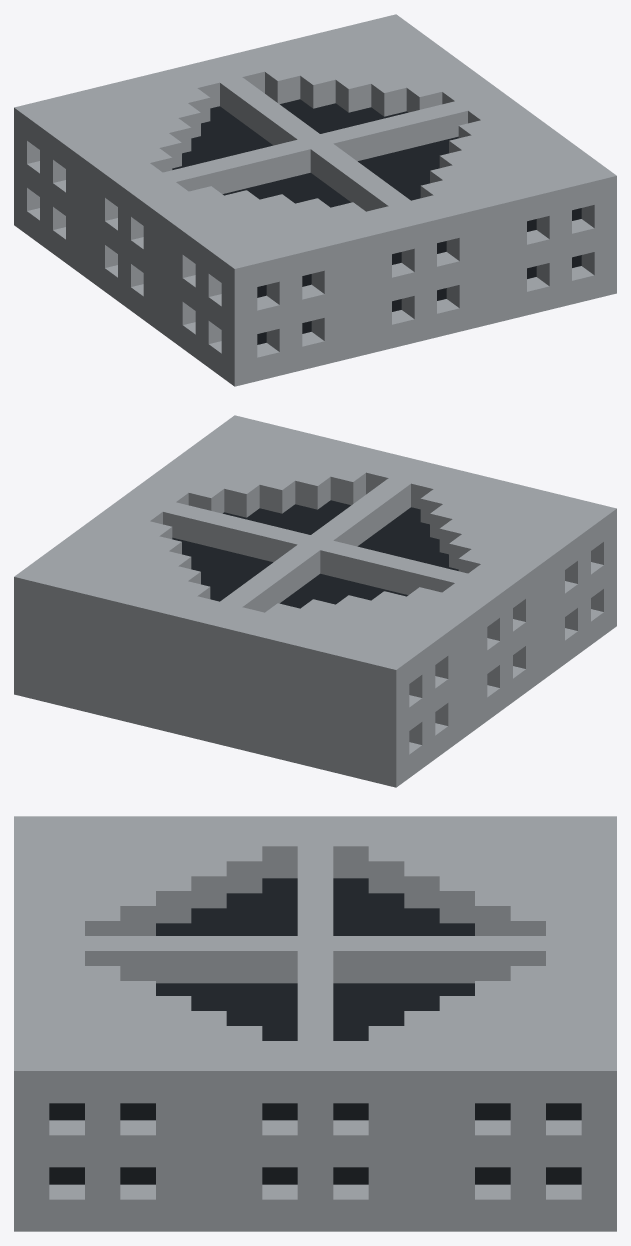
Rendered from beforeac.obj.
The picture shows the model from 3 angles, top to bottom: view 1: azimuth 30°, elevation 25°; view 2: azimuth 150°, elevation 25°; view 3: azimuth 270°, elevation 25°; orthographic projection. The views are drawn at different scales.
Bounding box in the file's own units: 1.7 × 0.5 × 1.7.
1 material, 1 textured.
